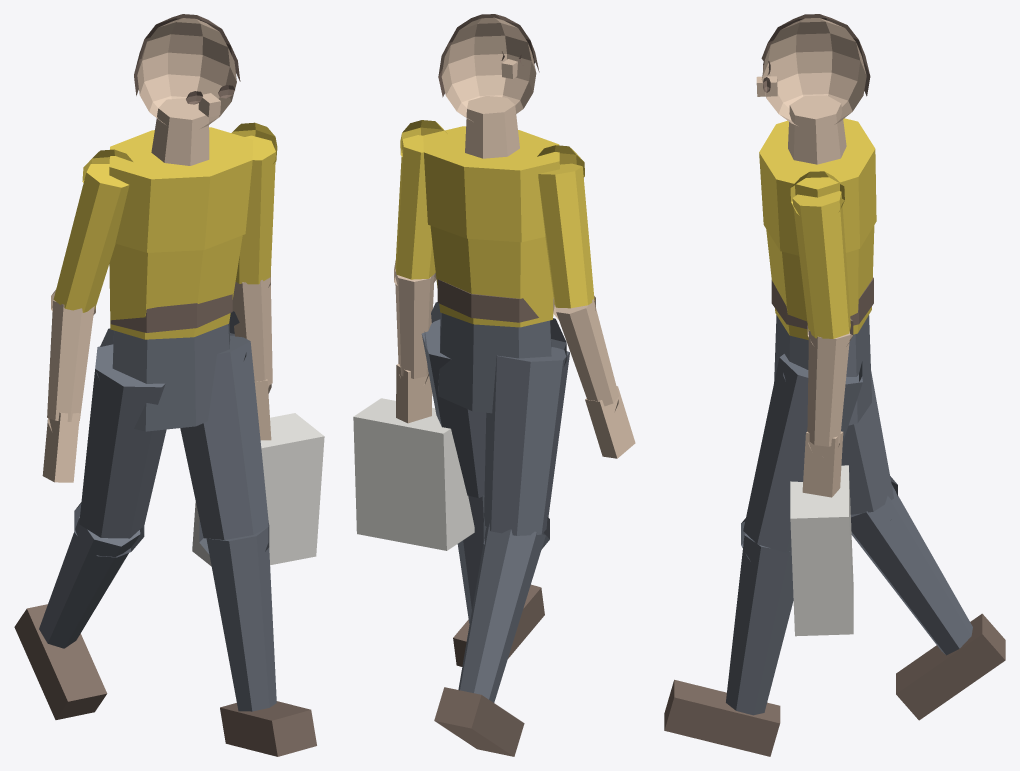
The model's file is low-poly-character-figures-civilian-walking-with-bag-78641137__36342.glb.
The picture shows the model from 3 angles, left to right: view 1: azimuth 30°, elevation 25°; view 2: azimuth 150°, elevation 25°; view 3: azimuth 270°, elevation 25°; orthographic projection. The views are drawn at different scales.
Parts seen in each view (by area): view 1: civilian-walking-with-bag; view 2: civilian-walking-with-bag; view 3: civilian-walking-with-bag.
Part boxes in pixels (left/top/right/bottom): civilian-walking-with-bag: left=14, top=14, right=324, bottom=756; civilian-walking-with-bag: left=353, top=14, right=635, bottom=756; civilian-walking-with-bag: left=664, top=14, right=1005, bottom=756.
Size of the model in its own units: 0.6942 by 1.78 by 0.7618.
